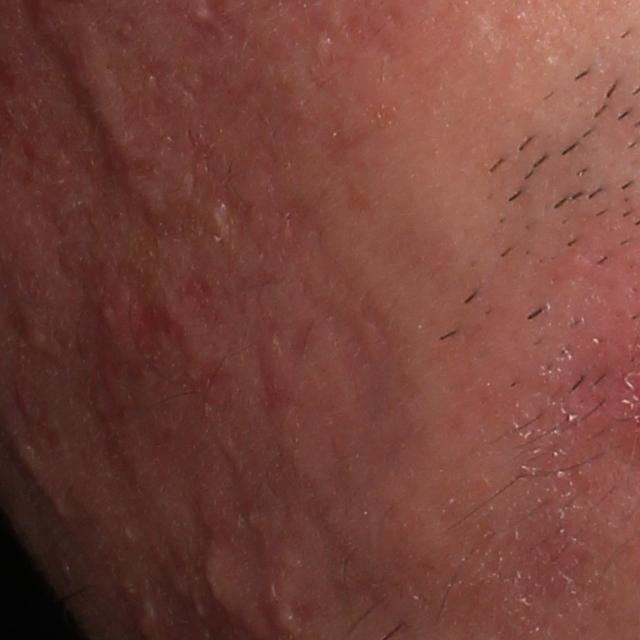hypertrophic_scar: (36, 4, 140, 167), (207, 201, 237, 241)
